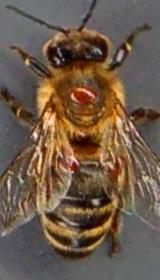varroa_mite: (56, 78, 108, 107), (105, 142, 124, 188), (54, 148, 84, 171)
